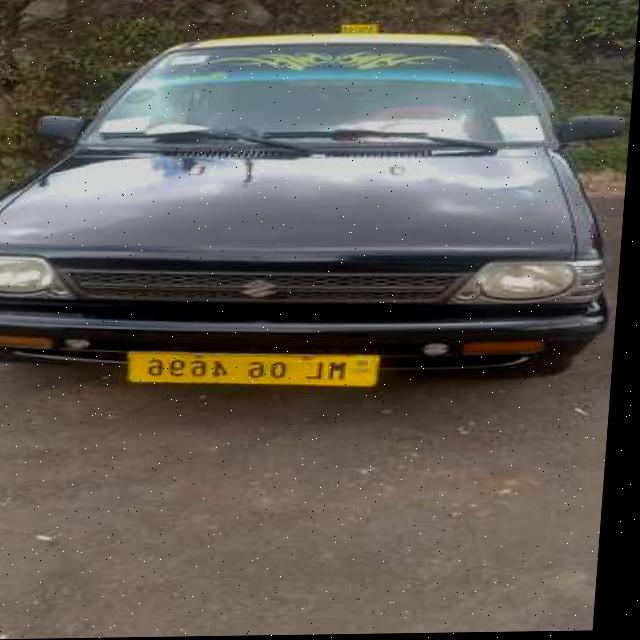plate: (127, 342, 390, 395)
